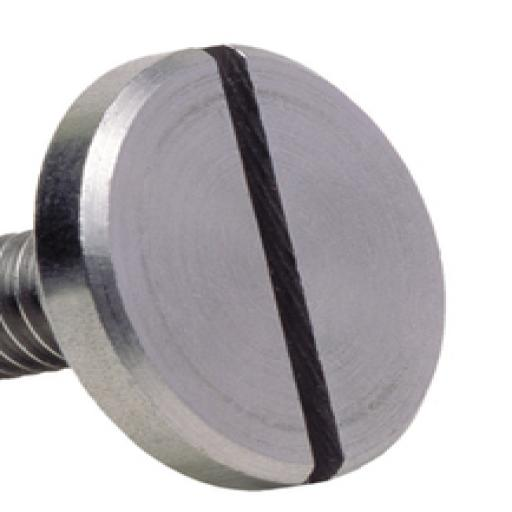Slotted: (0, 34, 466, 499)
